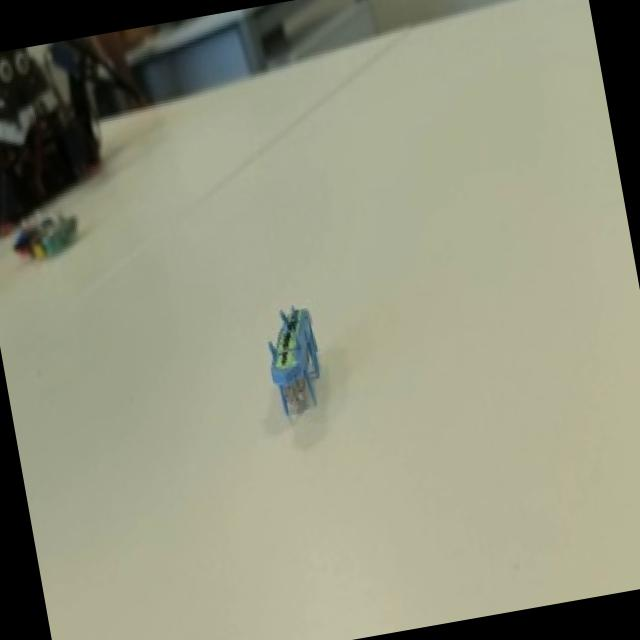3_NanoBug_Celeste: (220, 270, 368, 441)
